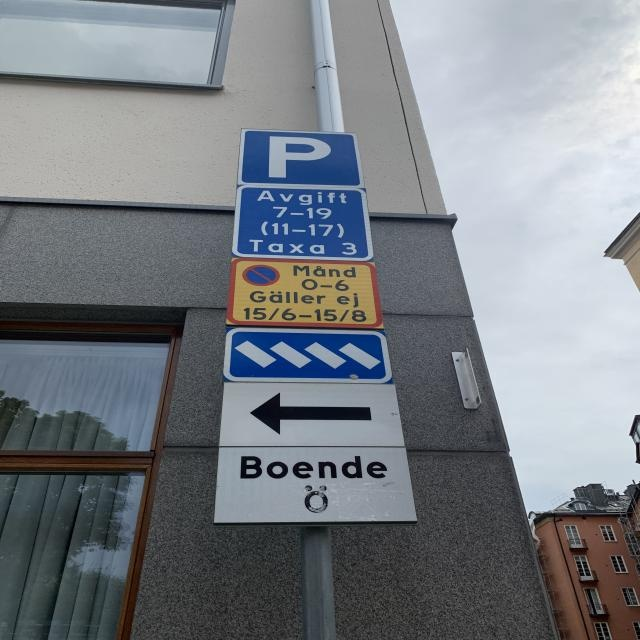P-skylt: (235, 124, 367, 193)
